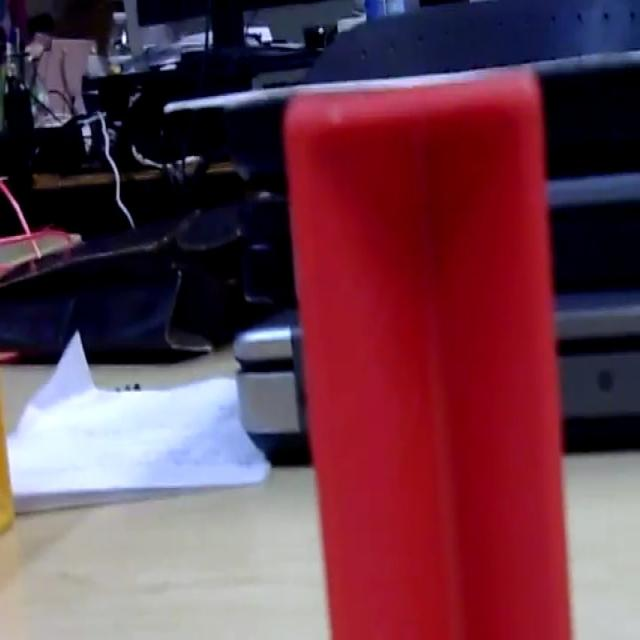red_block: (281, 64, 574, 636)
